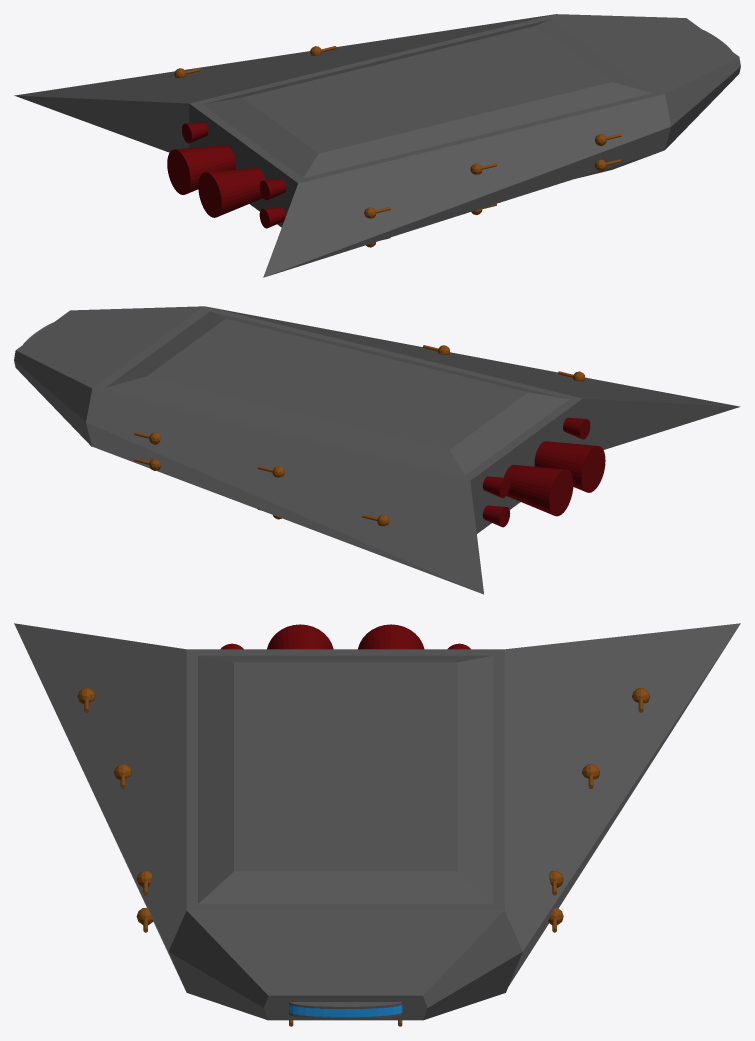
The picture shows the model from 3 angles, top to bottom: view 1: azimuth 30°, elevation 25°; view 2: azimuth 150°, elevation 25°; view 3: azimuth 270°, elevation 25°; orthographic projection. The views are drawn at different scales.
Visible parts, largest first — view 1: Cube.007, Cube.005, Cube.001, Cube, Cube.002, Cube.004, Cone.002, Cone, Cone.005, Cone.001, Cone.004; view 2: Cube.007, Cube.001, Cube.005, Cube, Cube.002, Cube.003, Cone, Cone.002; view 3: Cube.007, Cube.001, Cube.005, Cube.002, Cube, Cube.003, Cube.004, Cone.002, Cone, Cylinder, Cylinder.004.
Boxes of the visible parts, <box> form: Cube.007: <box>202,19,651,178</box>; Cube.005: <box>263,94,671,277</box>; Cube.001: <box>14,14,553,152</box>; Cube: <box>189,14,664,227</box>; Cube.002: <box>556,14,738,93</box>; Cube.004: <box>665,57,740,149</box>; Cone.002: <box>198,168,265,217</box>; Cone: <box>167,145,235,194</box>; Cone.005: <box>259,179,286,200</box>; Cone.001: <box>182,122,208,143</box>; Cone.004: <box>259,207,286,228</box>; Cube.007: <box>106,311,568,475</box>; Cube.001: <box>86,388,483,594</box>; Cube.005: <box>207,306,740,449</box>; Cube: <box>92,306,582,533</box>; Cube.002: <box>16,306,203,446</box>; Cube.003: <box>14,350,92,446</box>; Cone: <box>504,464,573,516</box>; Cone.002: <box>534,441,605,492</box>; Cube.007: <box>198,655,493,903</box>; Cube.001: <box>504,623,740,986</box>; Cube.005: <box>14,623,186,988</box>; Cube.002: <box>187,910,504,1020</box>; Cube: <box>186,649,504,910</box>; Cube.003: <box>423,910,522,1020</box>; Cube.004: <box>168,911,268,1020</box>; Cone.002: <box>267,624,333,649</box>; Cone: <box>358,624,424,649</box>; Cylinder: <box>289,1004,402,1017</box>; Cylinder.004: <box>289,1002,402,1009</box>.
Bounding box in the file's own units: 5079 × 748 × 3840.
